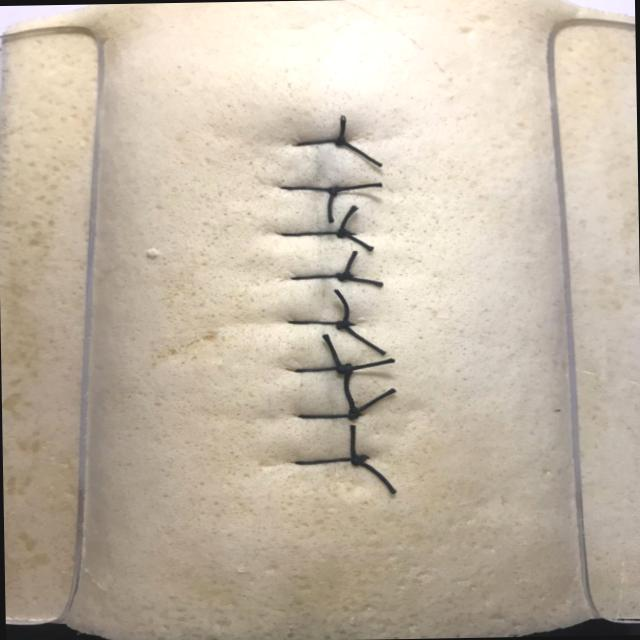knot: (351, 455, 369, 466), (335, 271, 352, 281), (335, 364, 351, 374), (327, 186, 342, 195), (336, 320, 349, 330), (348, 407, 358, 419), (337, 229, 350, 238), (336, 136, 345, 145)
leftover: (350, 456, 396, 495), (339, 321, 387, 356), (338, 137, 383, 168), (350, 387, 397, 416), (320, 332, 343, 370), (338, 231, 374, 252), (337, 204, 358, 236), (343, 358, 397, 370), (331, 287, 348, 325), (343, 368, 356, 417), (340, 273, 385, 287), (329, 182, 384, 191), (341, 247, 357, 277), (326, 187, 335, 224), (349, 423, 356, 460), (338, 112, 345, 142)
stitch: (291, 455, 371, 464), (295, 411, 363, 419), (294, 137, 347, 146), (278, 230, 357, 236), (288, 273, 354, 280), (279, 185, 343, 192), (287, 320, 356, 326), (293, 366, 354, 372)
wound: (311, 124, 339, 479)
